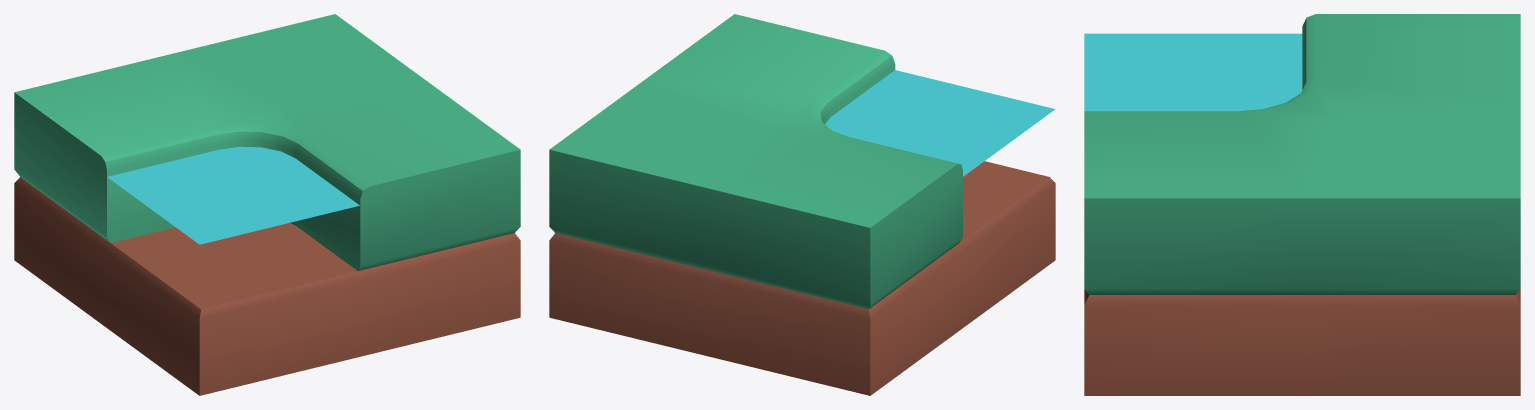
Rendered from kaykit-square-forest-waterinnercorner-nosides.glb.
3 views of the same model, side by side, from view 1: azimuth 30°, elevation 25°; view 2: azimuth 150°, elevation 25°; view 3: azimuth 270°, elevation 25° (orthographic). The views are drawn at different scales.
Visible parts, largest first — view 1: square_forest_waterInnerCorner_noSides; view 2: square_forest_waterInnerCorner_noSides; view 3: square_forest_waterInnerCorner_noSides.
Part boxes in pixels (x1,y1,x2,y2): square_forest_waterInnerCorner_noSides: (14, 14, 520, 395); square_forest_waterInnerCorner_noSides: (549, 14, 1055, 395); square_forest_waterInnerCorner_noSides: (1084, 14, 1520, 395).
Bounding box in the file's own units: 2 × 1 × 2.
